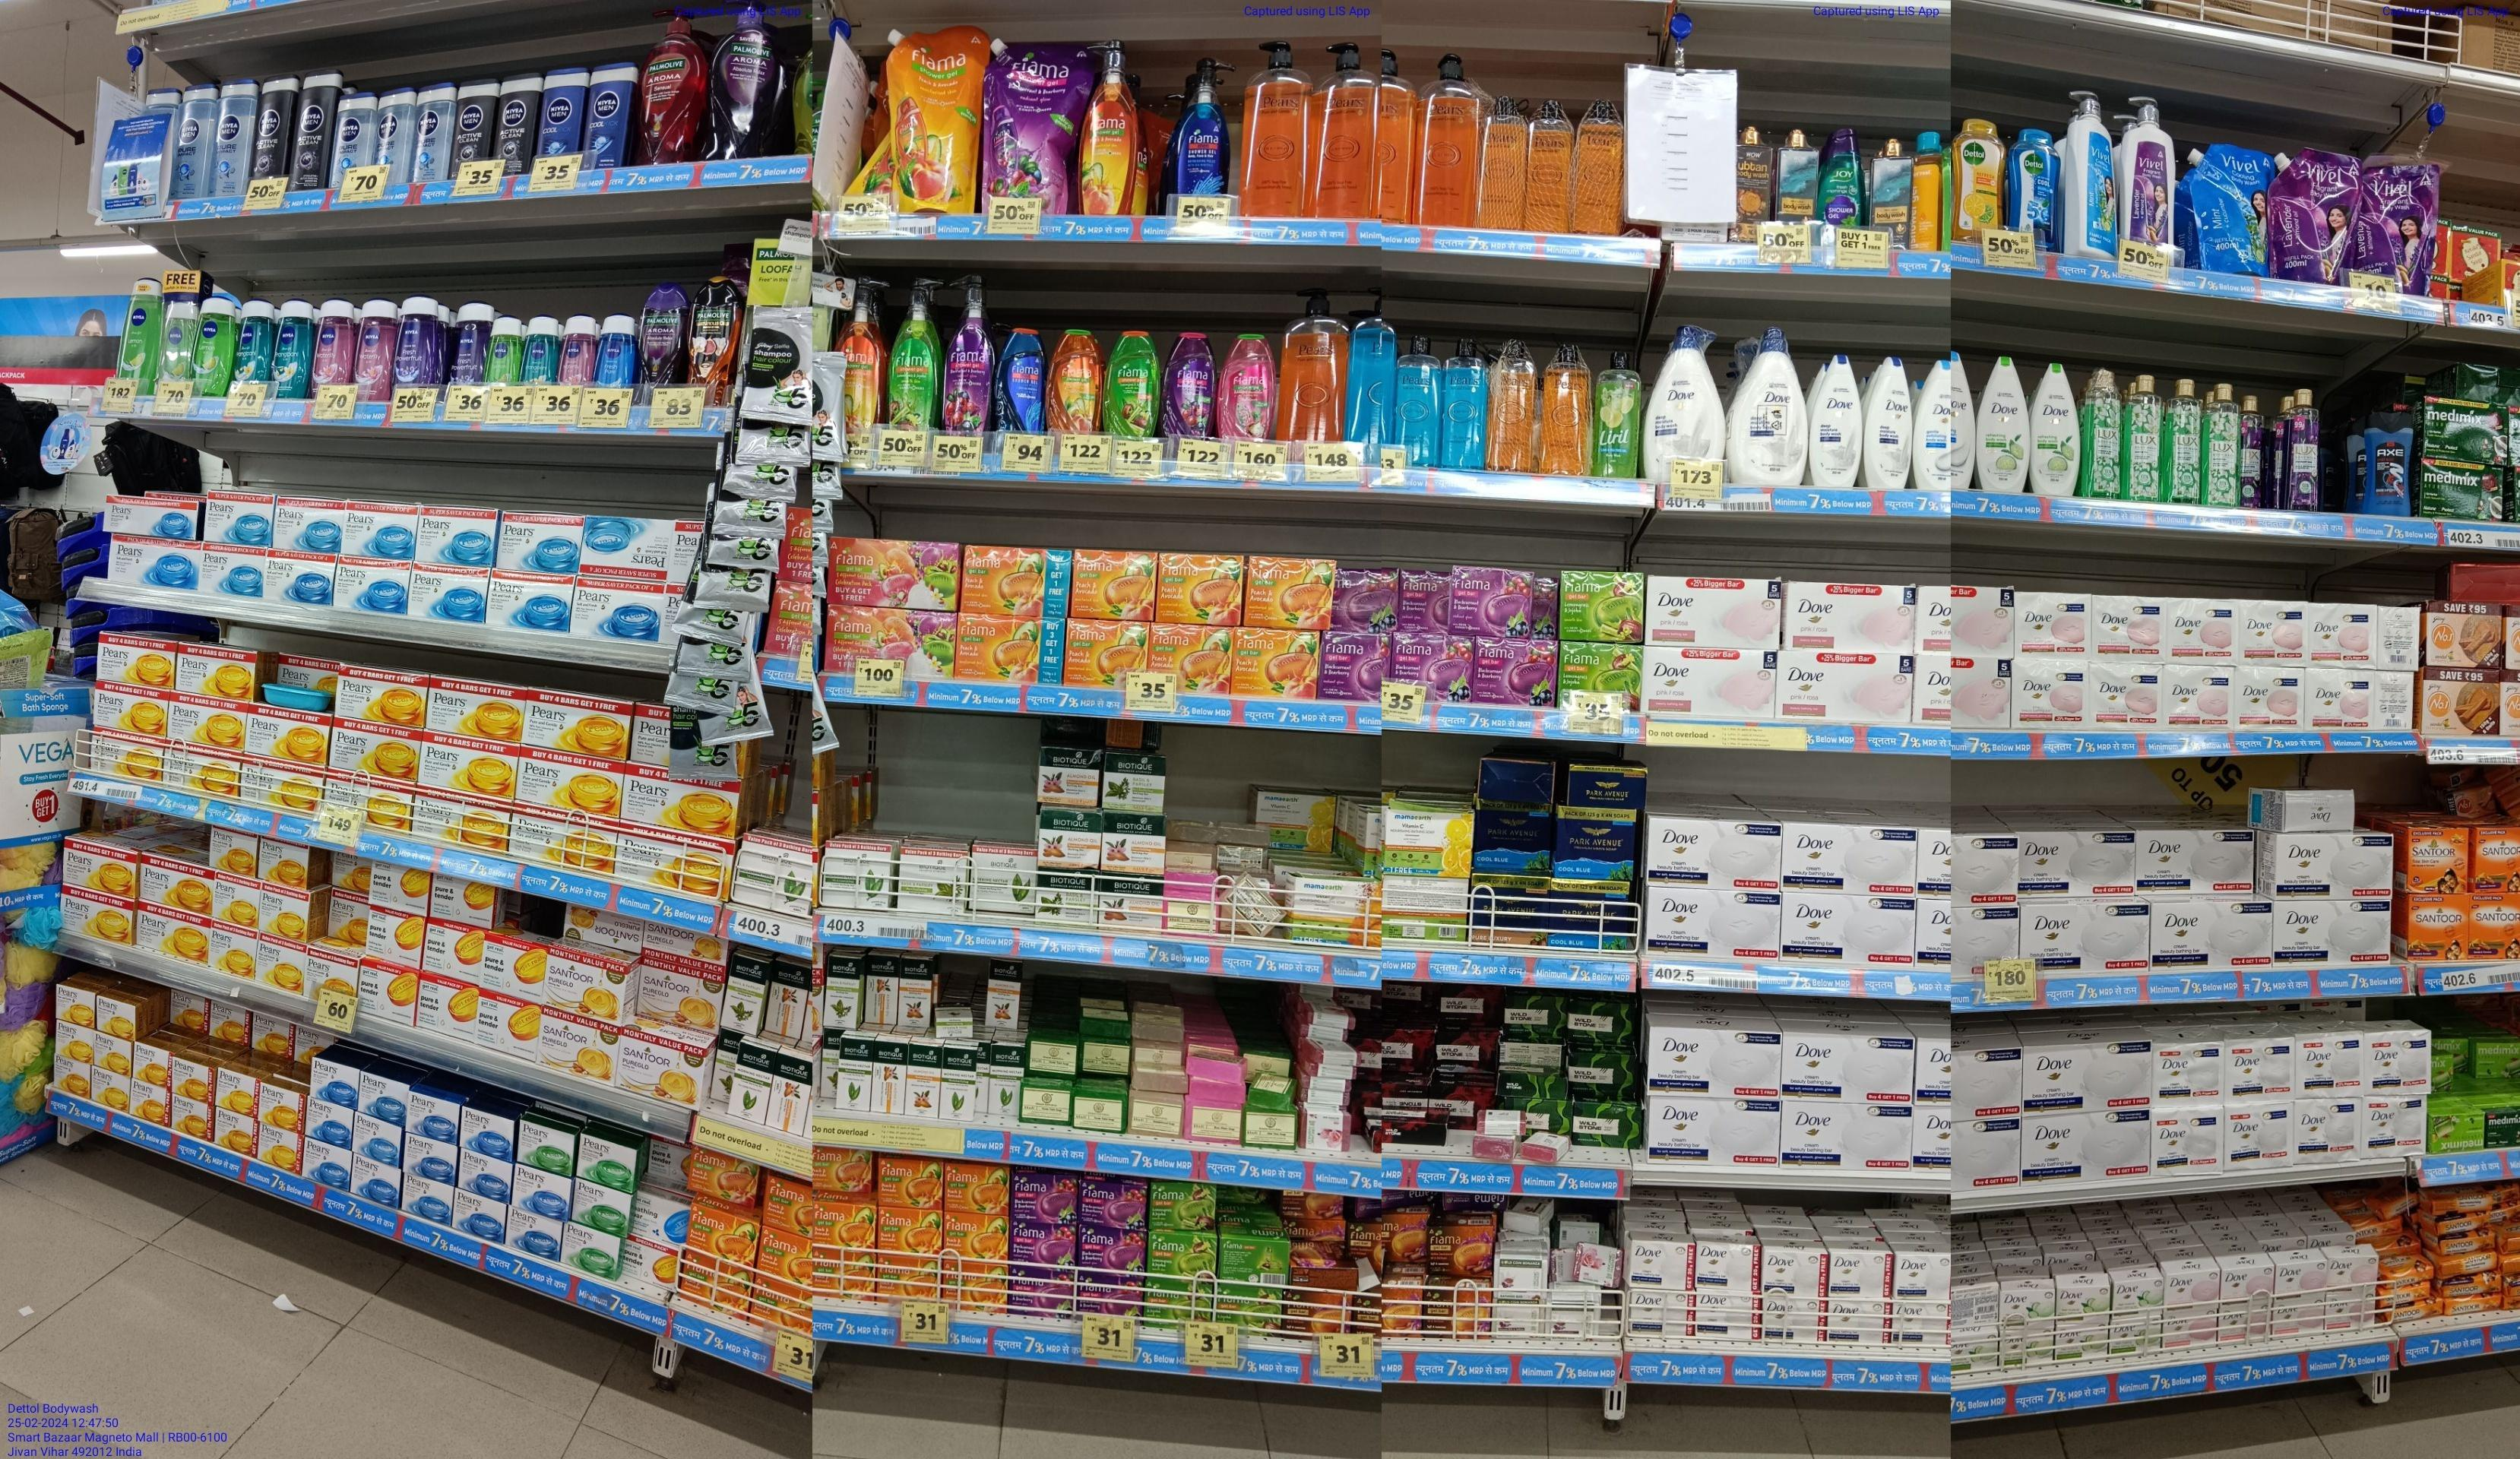Dettol_Bodywash_Cool: (2011, 129, 2060, 252)
Dettol_Bodywash_Refresh: (1954, 118, 2006, 243)
Dove_Deep_Moisture_Body_Wash_250ML: (1811, 354, 1864, 488), (1865, 356, 1912, 488)
Dove_Refreshing_Body_Wash_250ML: (1978, 356, 2027, 492), (2030, 363, 2079, 497)
Fiama_Shower_Gel_Lemongrass_and_Jojoba_250ML: (1110, 332, 1160, 438)
Fiama_Shower_Gel_Patchouli_and_Macadamia_250ML: (1223, 333, 1275, 438)
Fiama_Shower_Gel_Peach_and_Avocado_250ML: (1047, 328, 1103, 434)
Joy_Shower_Gel_Mint_and_Eucalyptus_250ML: (1818, 127, 1864, 228)
Liril_Lime_and_Tea_Tree_Oil_Body_Wash_250ML: (1594, 351, 1638, 478)
Lux_Black_Orchid_Scent_and_Juniper_Oil_Body_Wash_245ML: (2286, 389, 2324, 507)
Lux_Body_Wash_Skin_Detox_Freesia_Scent_and_Alove_Vera_245ML: (2084, 366, 2121, 497), (2204, 384, 2240, 505), (2126, 375, 2160, 500), (2169, 380, 2199, 502)
Nivea_Shower_Gel_Frangipani_and_Oil_250ML: (276, 297, 309, 398), (236, 300, 271, 380)
Nivea_Shower_Gel_Fresh_Powerfruit_250ML: (398, 297, 438, 386), (452, 302, 488, 380)
Nivea_Shower_Gel_Lemon_and_Oil_250ML: (113, 278, 162, 391), (196, 294, 233, 394), (165, 299, 196, 391)
Nivea_Shower_Gel_Waterlily_and_Oil_250ML: (354, 299, 394, 398), (314, 297, 349, 386)
Pears_Pure_Glycerin_and_Mint_Extracts_Body_Wash_250ML: (1443, 337, 1488, 471), (1396, 335, 1438, 469)
